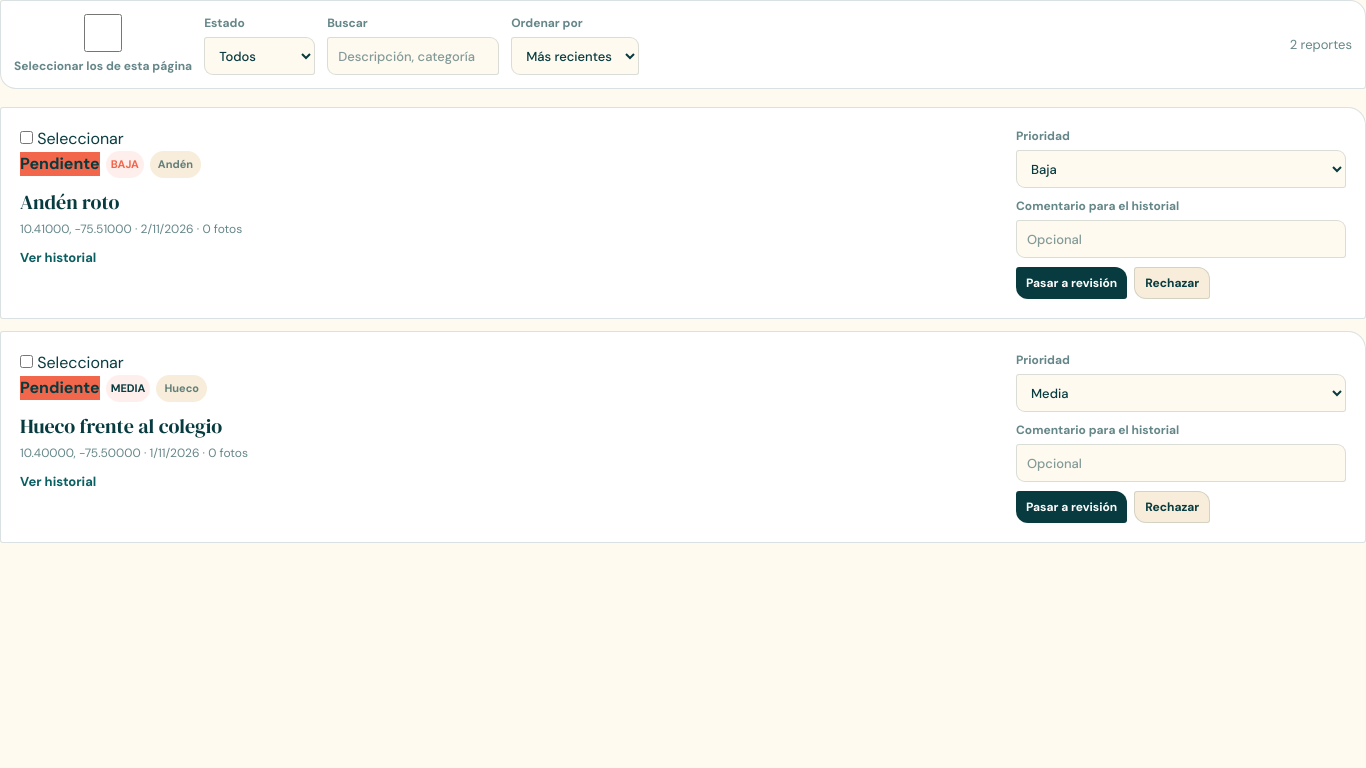
Test: ReportesAdmin › actualiza en lote los reportes seleccionados y muestra el resultado
Expected: the link "Hueco frente al colegio" is shown, [20,412,222,440]
Click the checkbox named "Seleccionar reporte Hueco frente al colegio" at [26, 362], box [20,355,33,368]
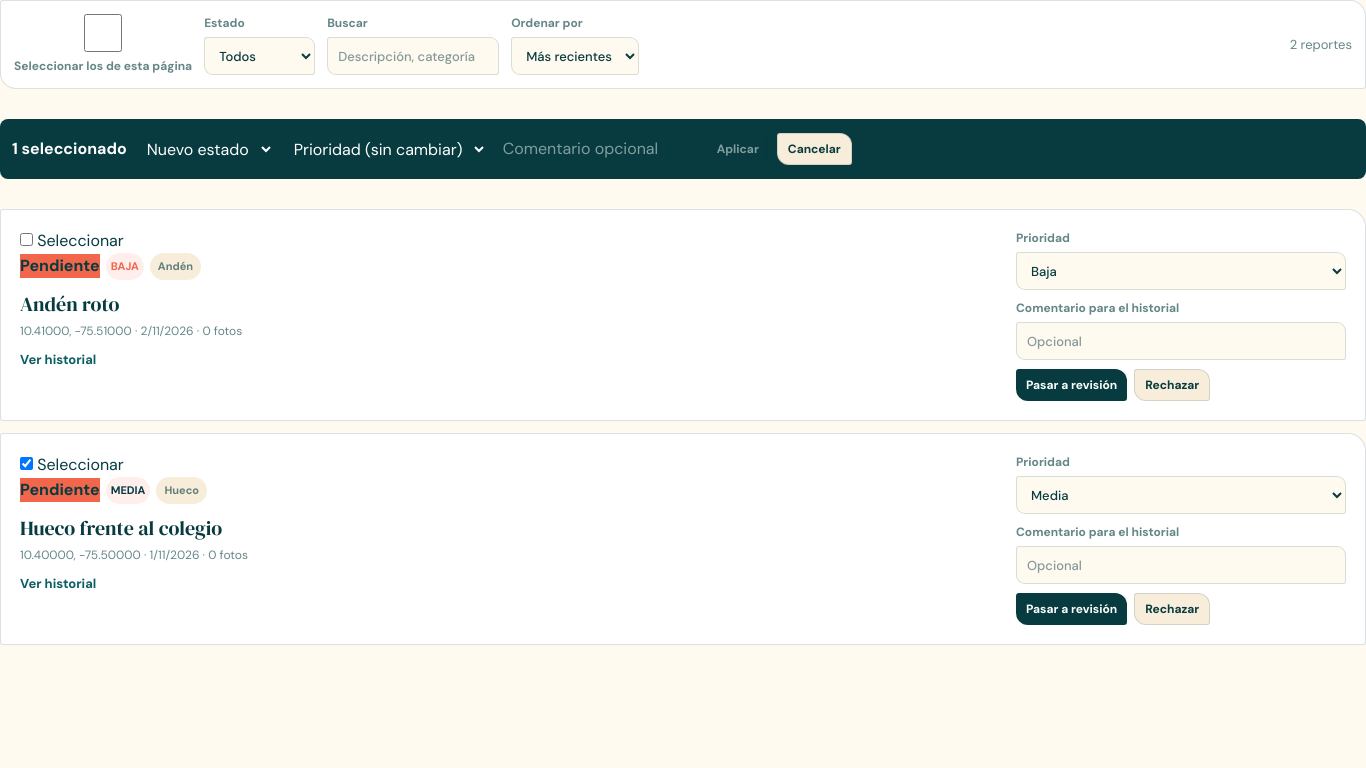
Expected: the text "1 seleccionado" is shown, [12,137,127,161]
Click the checkbox named "Seleccionar reporte Andén roto" at [26, 240], box [20,233,33,246]
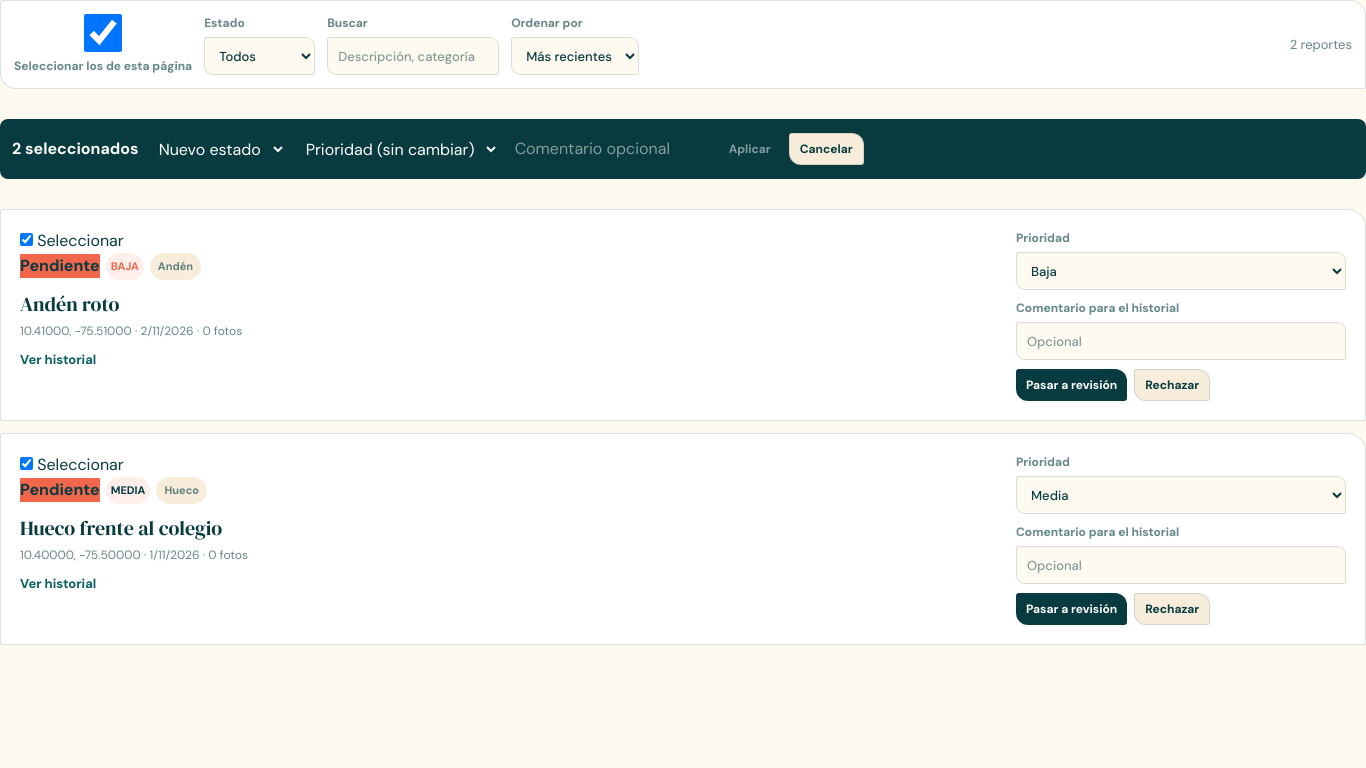
Expected: the text "2 seleccionados" is shown, [12,137,139,161]
Select "En revisión" in the dropdown named "Nuevo estado" at [216, 149], box [147,131,286,167]
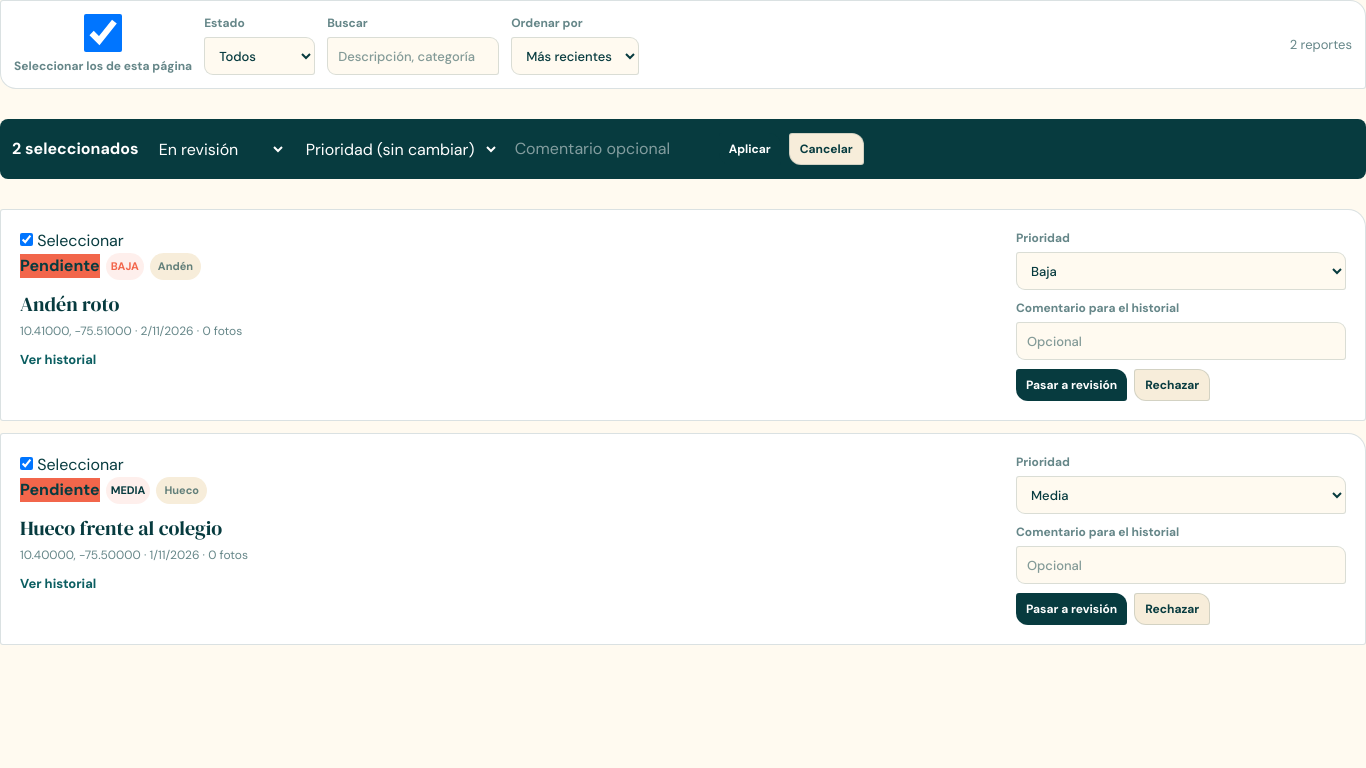
Select "ALTA" in the dropdown named "Prioridad" at [396, 149], box [294,131,499,167]
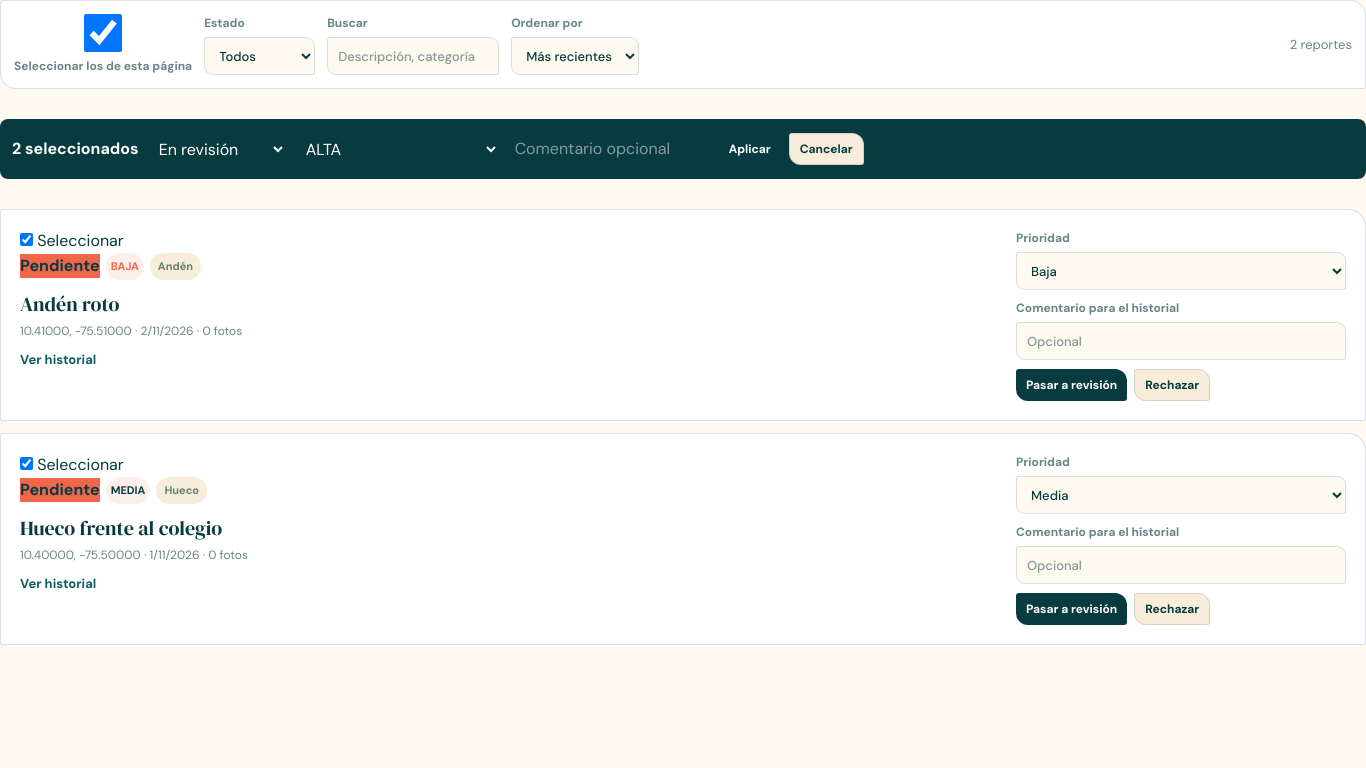
Type "Asignado" into the field with placeholder "Comentario opcional" at [609, 149], box [507,131,711,167]
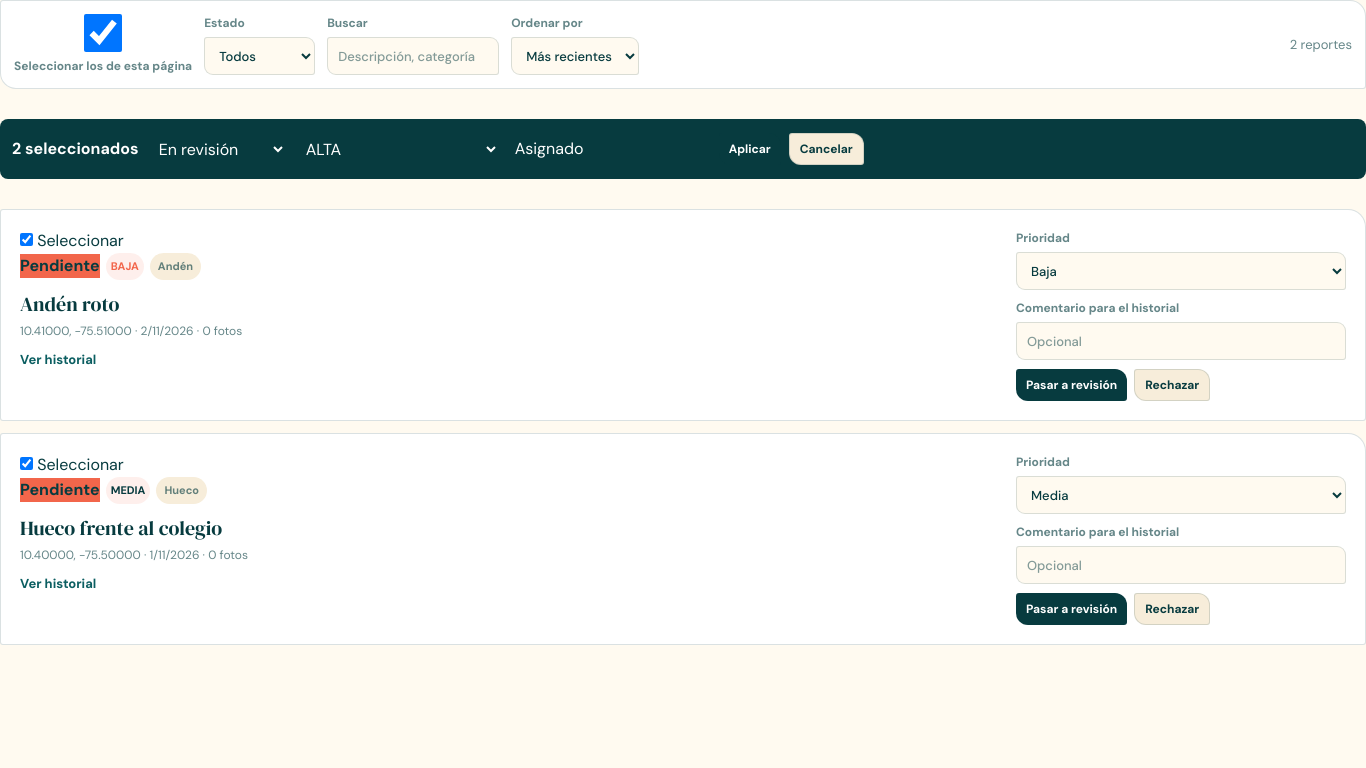
Click the button "Aplicar" at [750, 149], box [719,133,781,165]
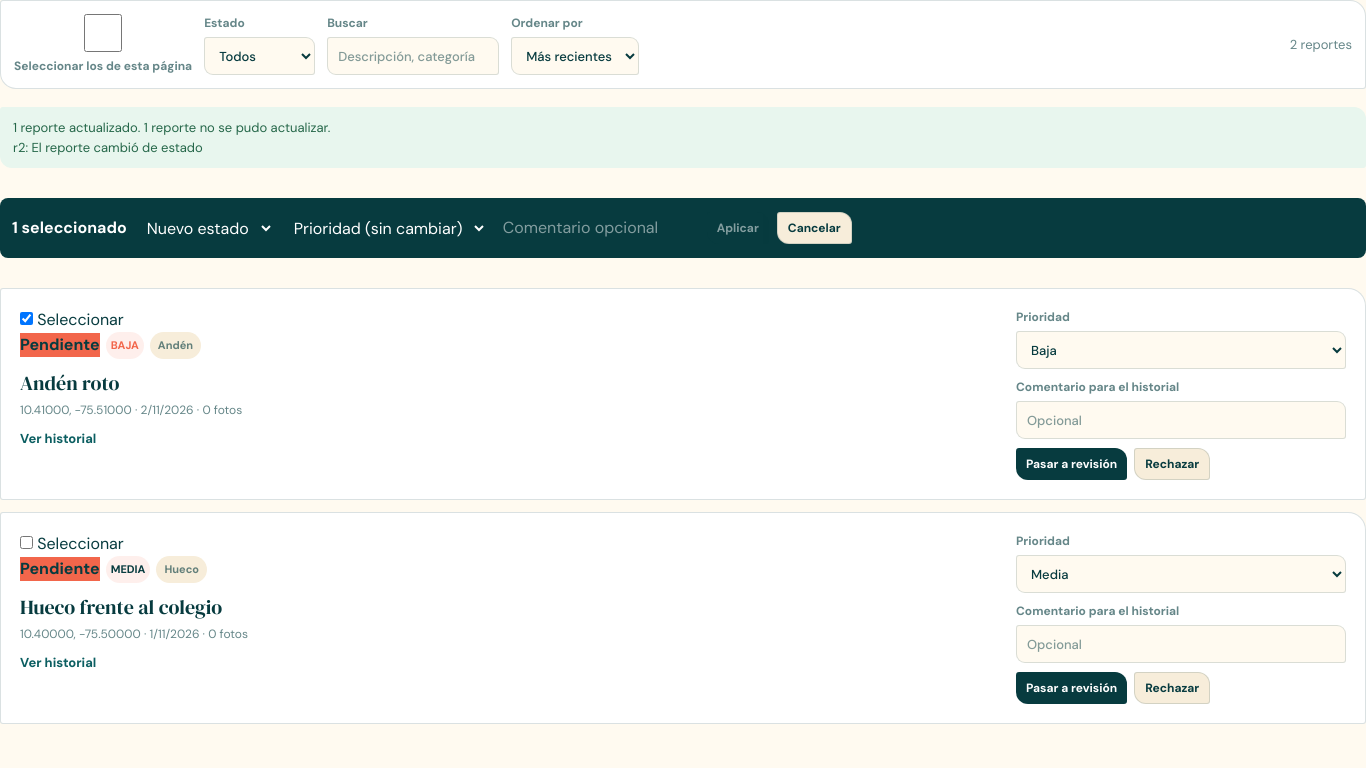
Expected: the message shows "1 reporte actualizado", [0,107,1365,168]
Expected: the list item "r2: El reporte cambió de estado" is shown, [13,138,203,156]
